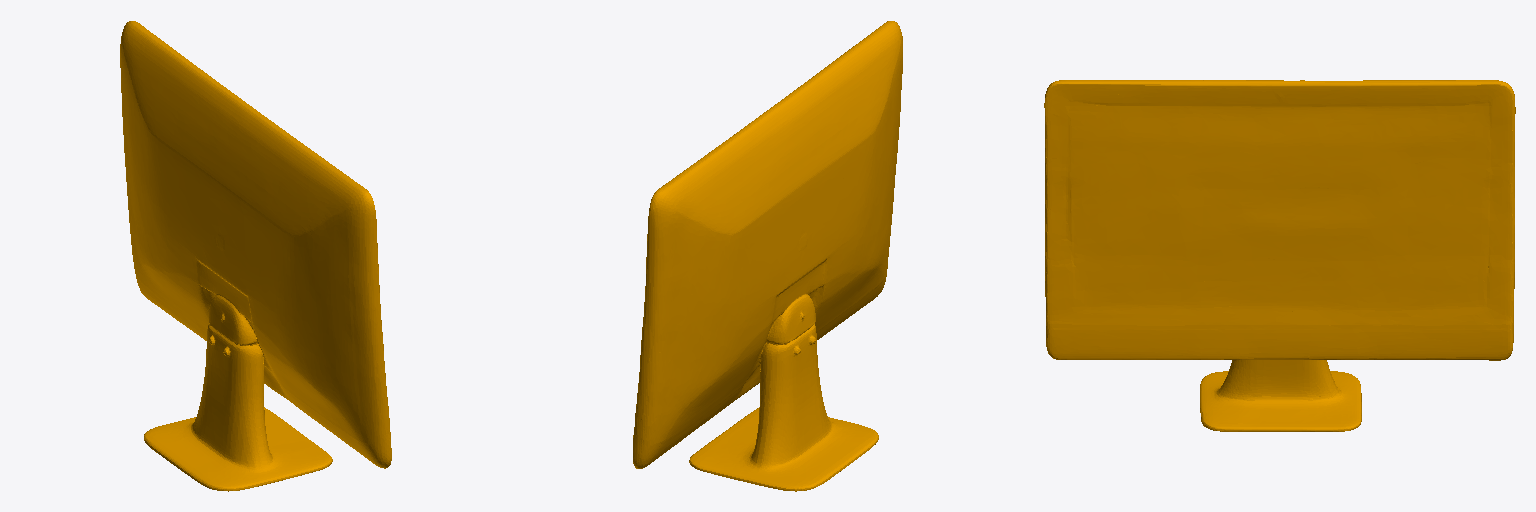
URDF robot description (sample):
<?xml version="1.0" ?>
<robot name="sample">
   <link name="sample">
      <visual>
         <origin xyz="0 0 0" rpy="1.5708 0.0 0.0"/>
         <geometry>
            <mesh filename="mesh/sample.obj" scale="1.0 1.0 1.0"/>
         </geometry>
      </visual>
      <collision>
         <origin xyz="0 0 0" rpy="1.5708 0.0 0.0"/>
         <geometry>
            <mesh filename="mesh/sample_collision.obj" scale="1.0 1.0 1.0"/>
         </geometry>
         <gazebo>
            <mu1>0.70</mu1>
            <mu2>0.55</mu2>
         </gazebo>
      </collision>
      <inertial>
         <mass value="4.0000"/>
         <origin xyz="0 0 0"/>
         <inertia ixx="1.0" ixy="0.0" ixz="0.0" iyy="1.0" iyz="0.0" izz="1.0"/>
      </inertial>
      <extra_info>
         <scale>0.716087</scale>
         <version>v0.1.7</version>
         <category>computer monitor</category>
         <description>flat-screen monitor with white stand and black bezel</description>
         <min_height>0.5</min_height>
         <max_height>0.6</max_height>
         <real_height>0.55</real_height>
         <min_mass>3.0</min_mass>
         <max_mass>5.0</max_mass>
         <generate_time>20260323150548</generate_time>
         <gs_model>mesh/sample_gs.ply</gs_model>
      </extra_info>
   </link>
   <custom_data>
      <quality>
         <MeshGeoChecker>YES</MeshGeoChecker>
         <ImageSegChecker>NO, object is not fully extracted; background artifacts remain and object is not geometrically complete.</ImageSegChecker>
         <ImageAestheticChecker>4.764867424964905</ImageAestheticChecker>
         <overall>NO</overall>
      </quality>
   </custom_data>
</robot>

--- What the picture shows (computed from the rendered views, not written in the file) ---
3 views of the same robot in one strip: view 1: azimuth 30°, elevation 25°; view 2: azimuth 150°, elevation 25°; view 3: azimuth 270°, elevation 25° (orthographic).
Model sample with 1 links and 0 joints (none), rooted at sample, posed all joints at 0.
Links seen in each view (by area): view 1: sample; view 2: sample; view 3: sample.
Boxes of the visible links, x1,y1,x2,y2 form: sample: [120, 21, 391, 491]; sample: [633, 21, 902, 491]; sample: [1044, 80, 1515, 431].
Bounding box of the posed robot: 0.2116 × 0.7161 × 0.55 m (x, y, z).
1 mesh visuals loaded from 1 distinct referenced files (1 OBJ).
